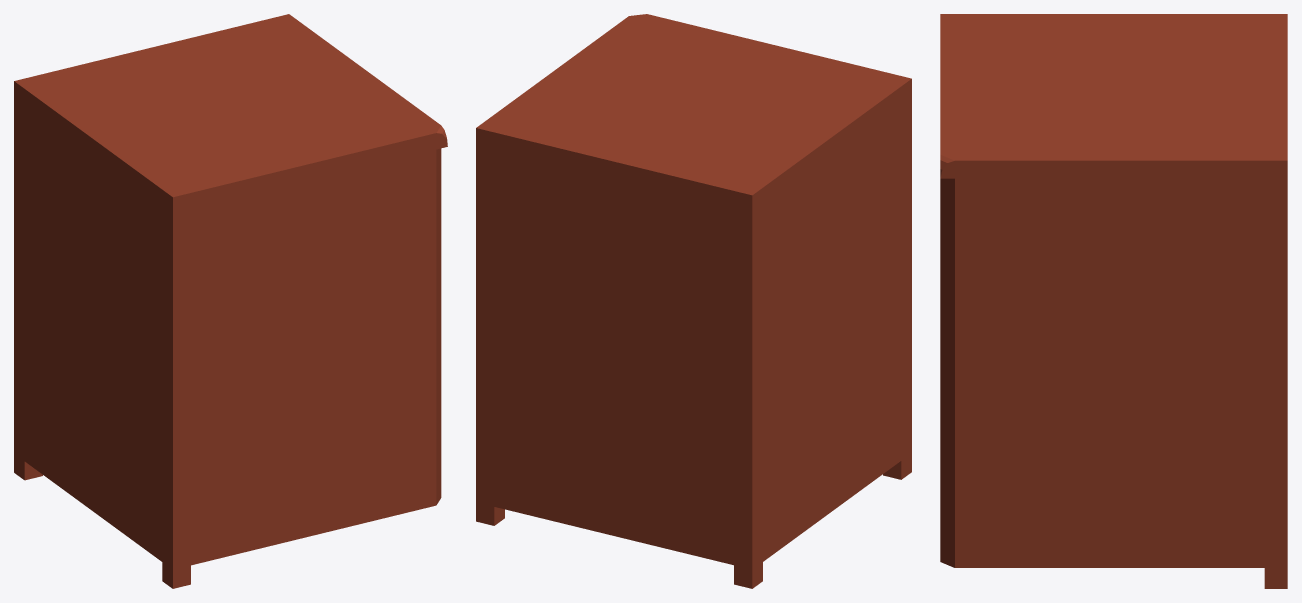
File: .fbx_Eckschrank.fbx
The picture shows the model from 3 angles, left to right: view 1: azimuth 30°, elevation 25°; view 2: azimuth 150°, elevation 25°; view 3: azimuth 270°, elevation 25°; orthographic projection. The views are drawn at different scales.
Parts seen in each view (by area): view 1: Eckschrank; view 2: Eckschrank; view 3: Eckschrank.
Boxes of the visible parts, x1,y1,x2,y2 form: Eckschrank: (14, 14, 447, 588); Eckschrank: (476, 14, 911, 588); Eckschrank: (940, 14, 1287, 588).
Size of the model in its own units: 0.658 by 0.8954 by 0.658.
